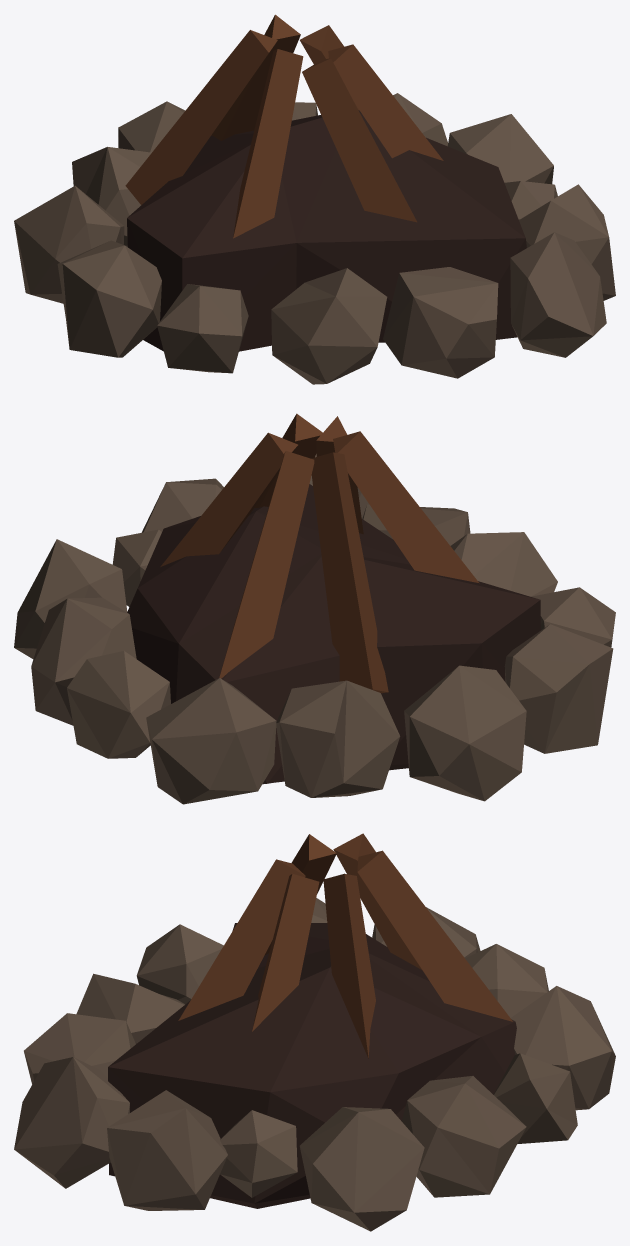
The model's file is Campfire.fbx.
3 views of the same model, one above another, from view 1: azimuth 30°, elevation 25°; view 2: azimuth 150°, elevation 25°; view 3: azimuth 270°, elevation 25° (orthographic). The views are drawn at different scales.
Parts seen in each view (by area): view 1: Campfire; view 2: Campfire; view 3: Campfire.
Boxes of the visible parts, <box> form: Campfire: <box>14,14,615,384</box>; Campfire: <box>14,413,615,804</box>; Campfire: <box>14,833,615,1231</box>.
Bounding box in the file's own units: 108 × 61.91 × 108.
